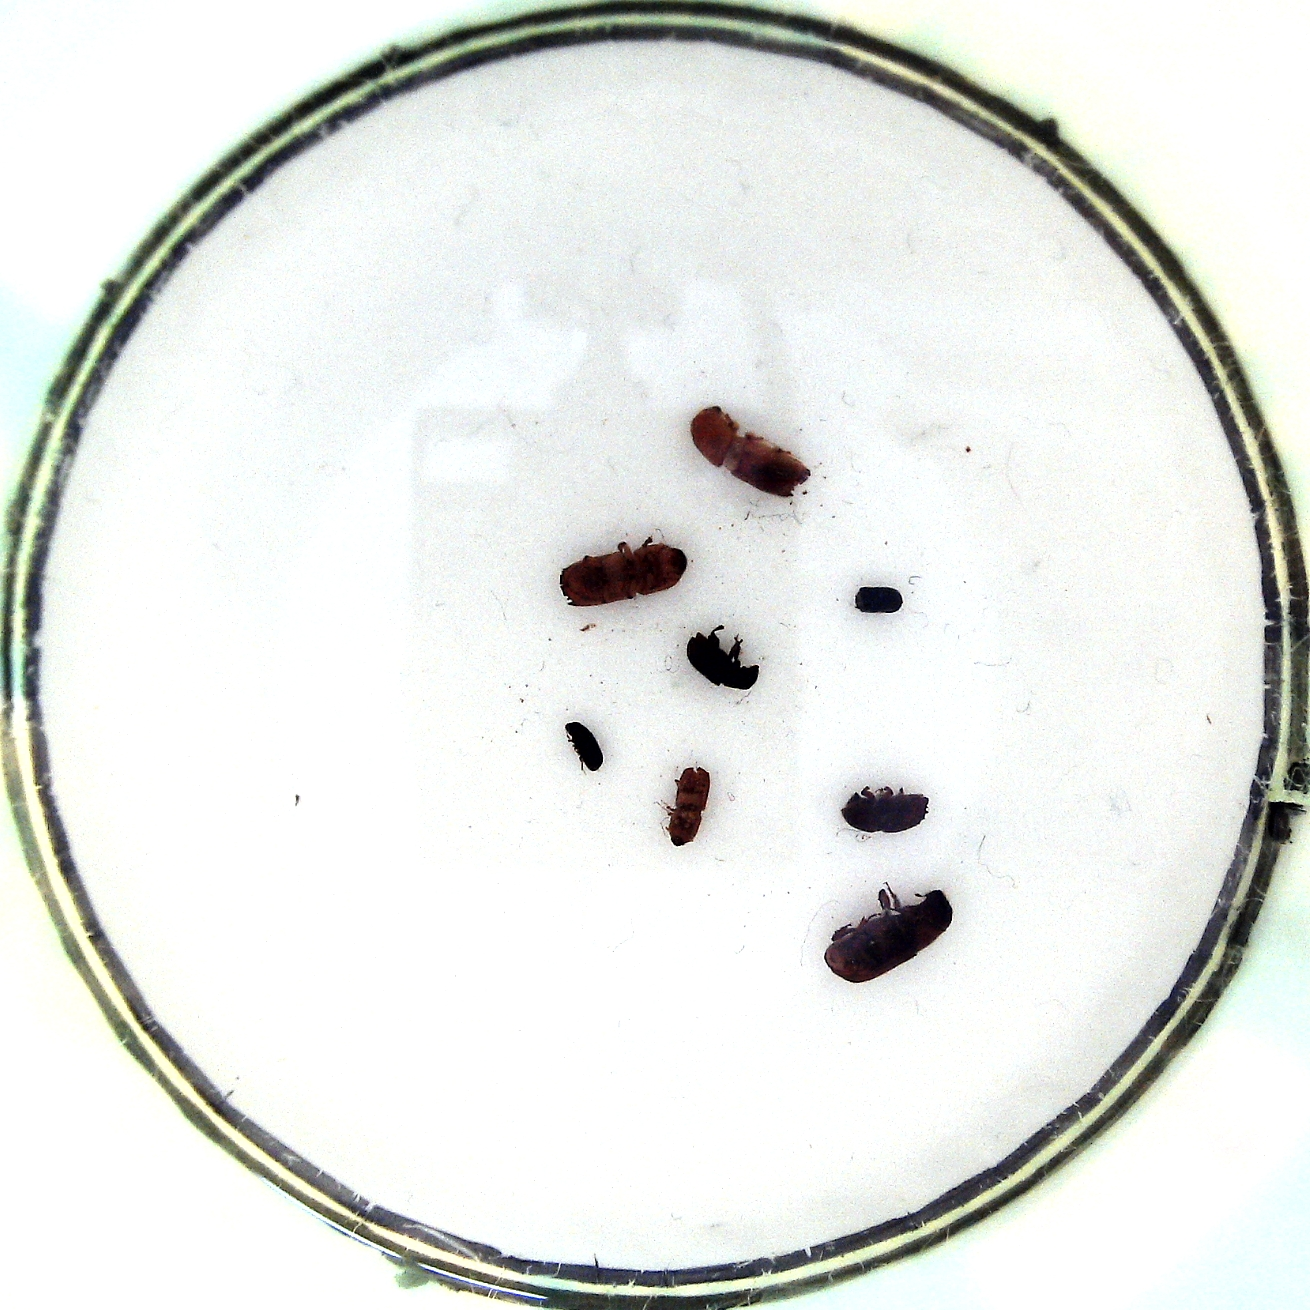Boerner: (686, 401, 812, 501), (553, 535, 697, 609)
Leconte: (823, 883, 959, 986)
Linnaeus: (839, 781, 936, 837)
acuminatus: (663, 764, 713, 851)
armandi: (683, 625, 767, 691)
coleoptera: (558, 715, 612, 773), (845, 579, 909, 620)
